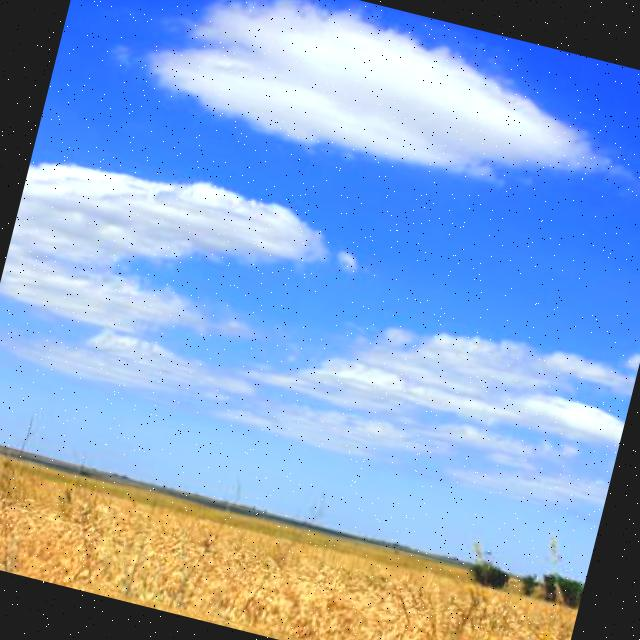Cs: (1, 1, 640, 529)
